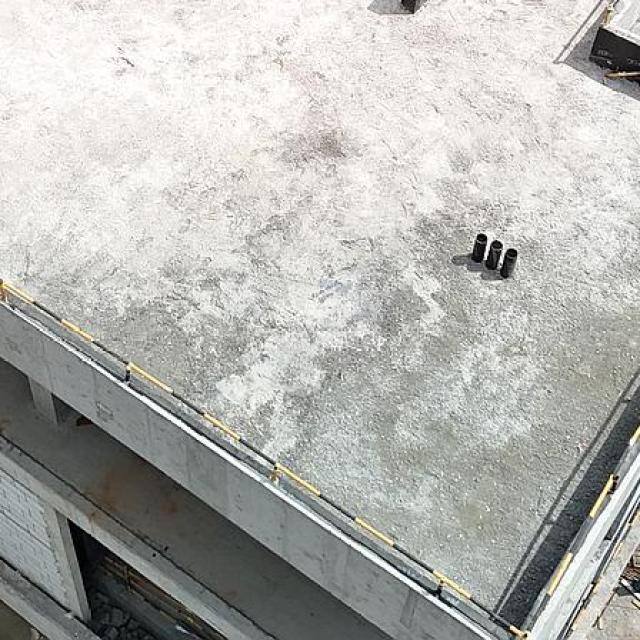edge_guardrail: (0, 275, 640, 640), (555, 491, 640, 639), (96, 554, 227, 640), (604, 0, 619, 26), (603, 71, 640, 78)
